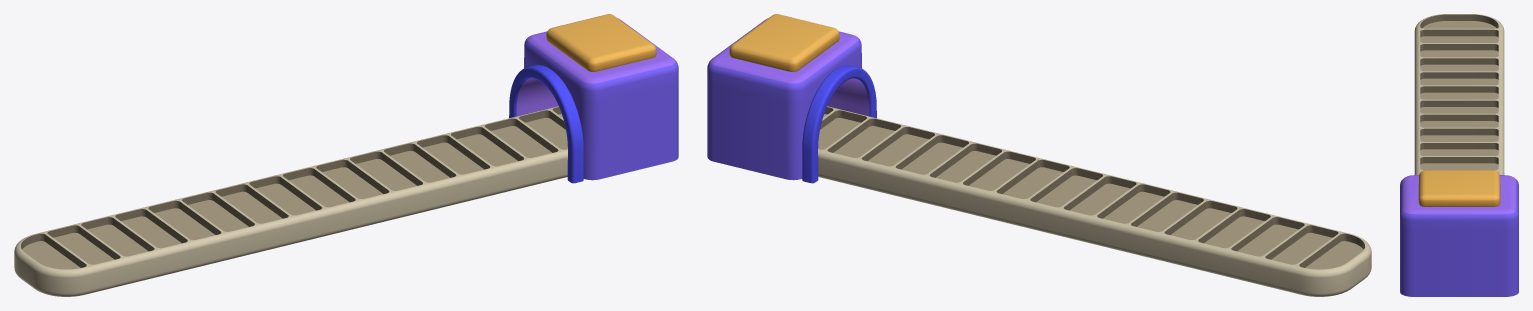
File: Slot.fbx
The picture shows the model from 3 angles, left to right: view 1: azimuth 30°, elevation 25°; view 2: azimuth 150°, elevation 25°; view 3: azimuth 270°, elevation 25°; orthographic projection. The views are drawn at different scales.
Visible parts, largest first — view 1: Slot2.001, Slot1; view 2: Slot2.001, Slot1; view 3: Slot1, Slot2.001.
Part boxes in pixels (bbox=[...]): Slot2.001: bbox=[14, 106, 567, 296]; Slot1: bbox=[509, 14, 678, 183]; Slot2.001: bbox=[818, 106, 1371, 296]; Slot1: bbox=[707, 14, 876, 183]; Slot1: bbox=[1400, 170, 1518, 296]; Slot2.001: bbox=[1414, 14, 1504, 174].
Size of the model in its own units: 1983 by 334 by 380.
1 material, 1 textured.
